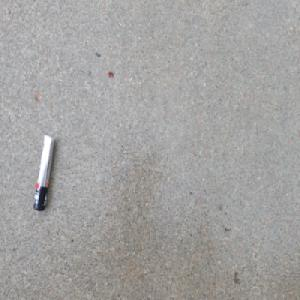Battery: (31, 133, 56, 216)
